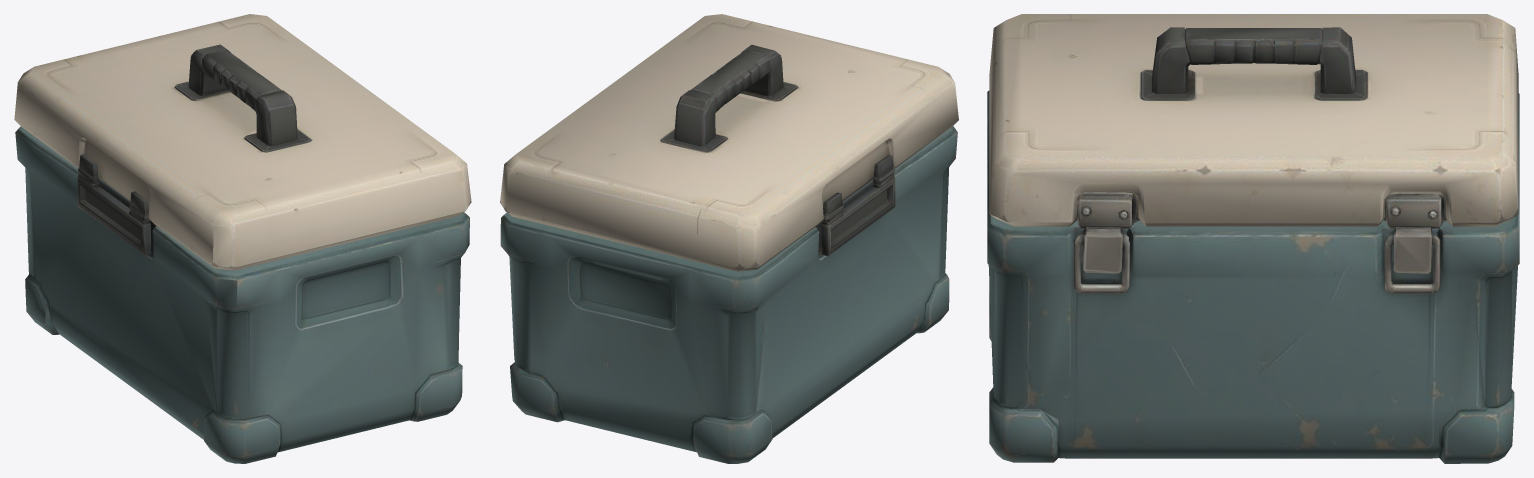
Rendered from survival-cooler.glb.
3 views of the same model, side by side, from view 1: azimuth 30°, elevation 25°; view 2: azimuth 150°, elevation 25°; view 3: azimuth 270°, elevation 25° (orthographic). The views are drawn at different scales.
Visible parts, largest first — view 1: tripo_node_4d5f0d80-2e11-428d-a1be-d46aa2ea910c; view 2: tripo_node_4d5f0d80-2e11-428d-a1be-d46aa2ea910c; view 3: tripo_node_4d5f0d80-2e11-428d-a1be-d46aa2ea910c.
Boxes of the visible parts, x1,y1,x2,y2 form: tripo_node_4d5f0d80-2e11-428d-a1be-d46aa2ea910c: (14,14,471,463); tripo_node_4d5f0d80-2e11-428d-a1be-d46aa2ea910c: (500,14,958,463); tripo_node_4d5f0d80-2e11-428d-a1be-d46aa2ea910c: (987,14,1519,463).
Bounding box in the file's own units: 0.7207 × 0.7519 × 0.998.
Materials: 1 (1 with a texture image).
